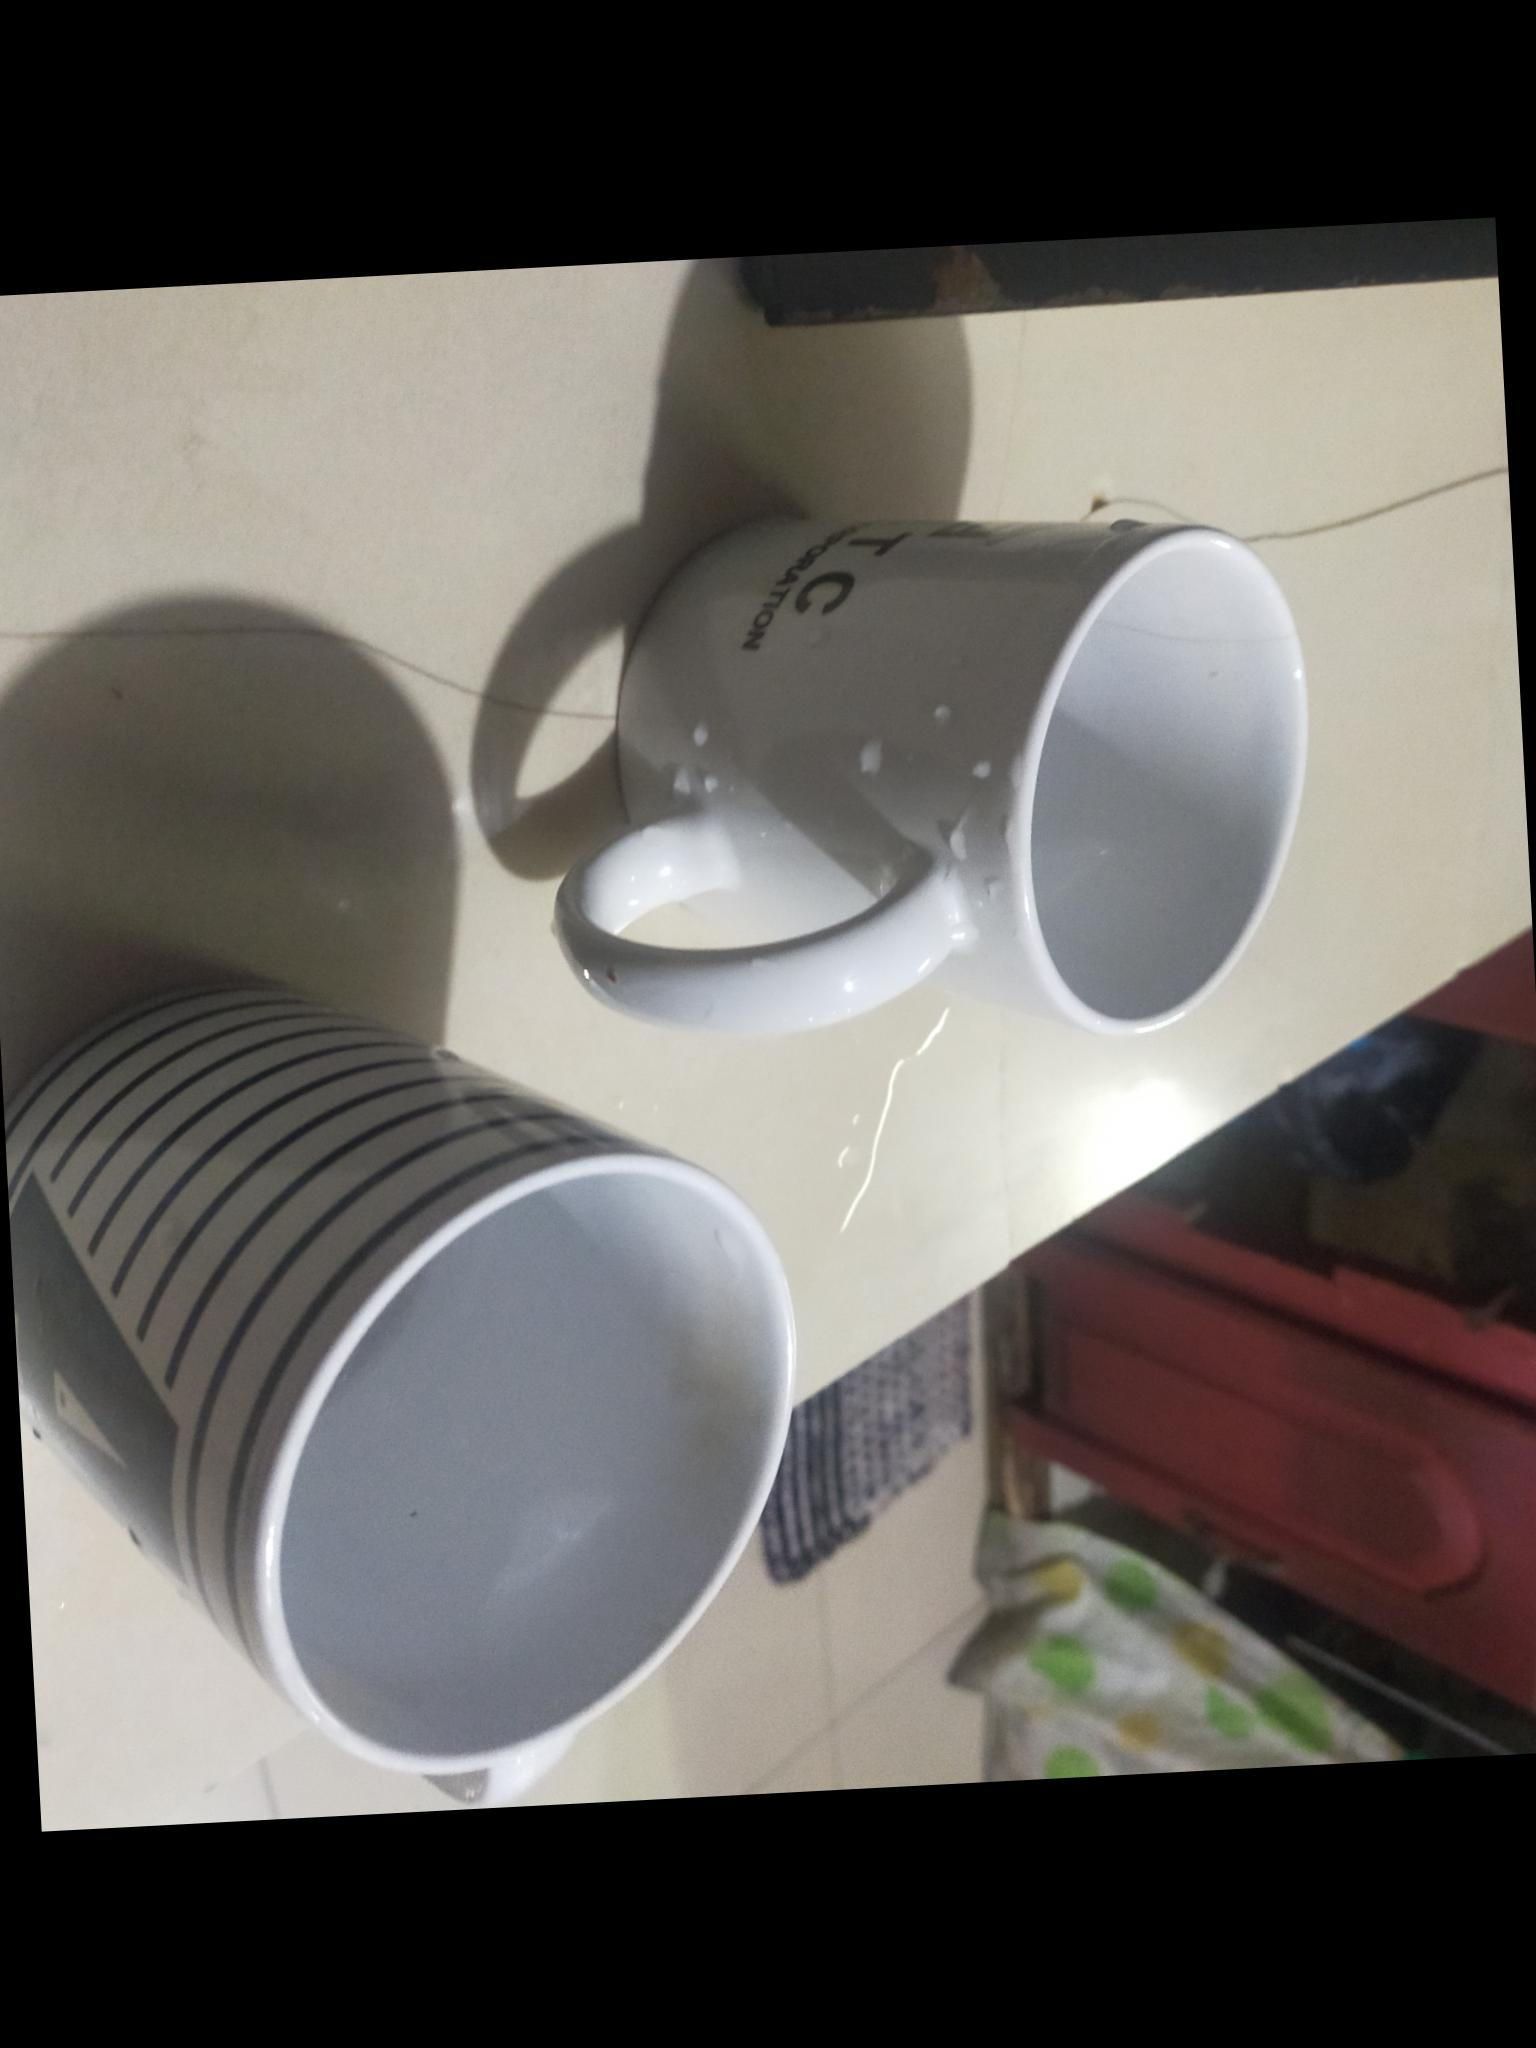Coffee Mug: (0, 964, 815, 1822), (529, 500, 1313, 1068)
